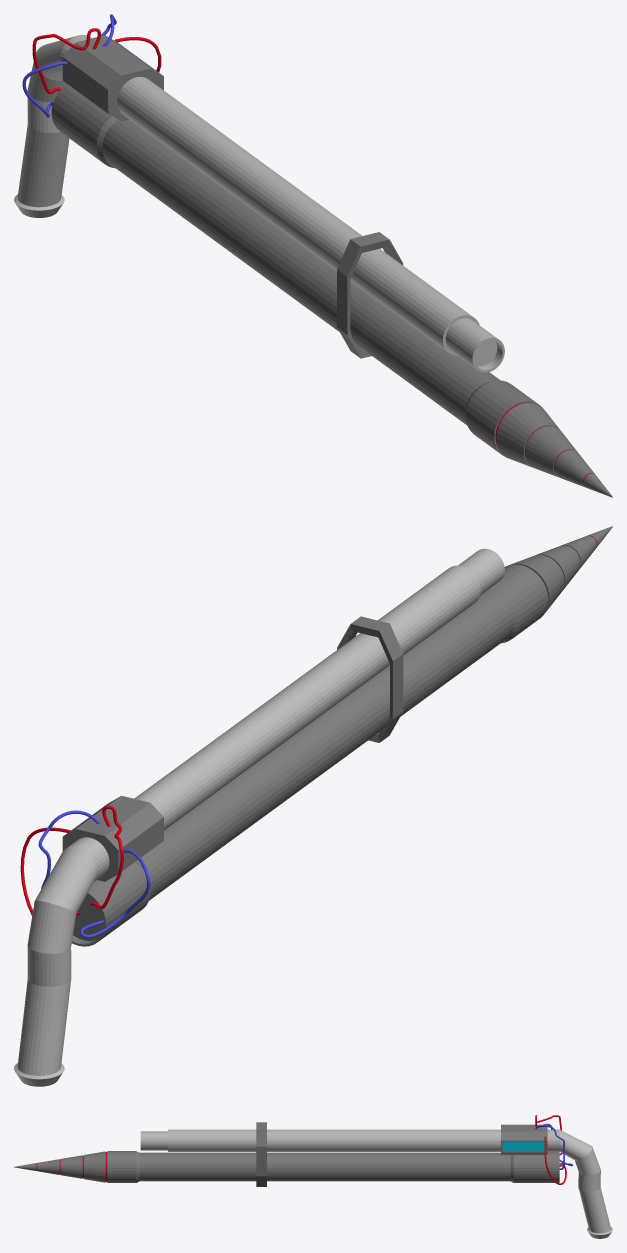
The model's file is Резак2.fbx.
The picture shows the model from 3 angles, top to bottom: view 1: azimuth 30°, elevation 25°; view 2: azimuth 150°, elevation 25°; view 3: azimuth 270°, elevation 25°; orthographic projection. The views are drawn at different scales.
Visible parts, largest first — view 1: Cylinder.001, Cylinder, Cube, Cube.001, BezierCurve; view 2: Cylinder, Cylinder.001, Cube, Cube.001, BezierCurve; view 3: Cylinder.001, Cylinder, Cube, Cube.001, BezierCurve.
Boxes of the visible parts, box(x1,y1,x2,y2) form: Cylinder.001: box(51, 84, 612, 497); Cylinder: box(14, 34, 504, 372); Cube: box(62, 35, 163, 121); Cube.001: box(337, 232, 403, 358); BezierCurve: box(32, 28, 161, 93); Cylinder: box(14, 548, 504, 1086); Cylinder.001: box(71, 526, 612, 946); Cube: box(62, 795, 163, 881); Cube.001: box(337, 616, 403, 742); BezierCurve: box(20, 805, 123, 915); Cylinder.001: box(14, 1151, 559, 1182); Cylinder: box(140, 1129, 612, 1238); Cube: box(501, 1124, 547, 1154); Cube.001: box(256, 1122, 266, 1186); BezierCurve: box(535, 1115, 566, 1184).
Size of the model in its own units: 91.91 by 151 by 698.
